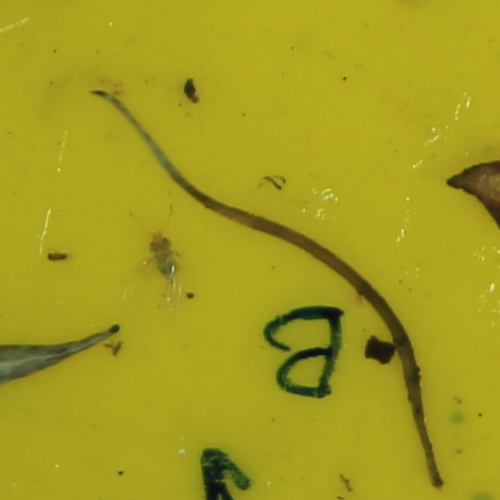Glycaspis: (147, 228, 180, 284)
